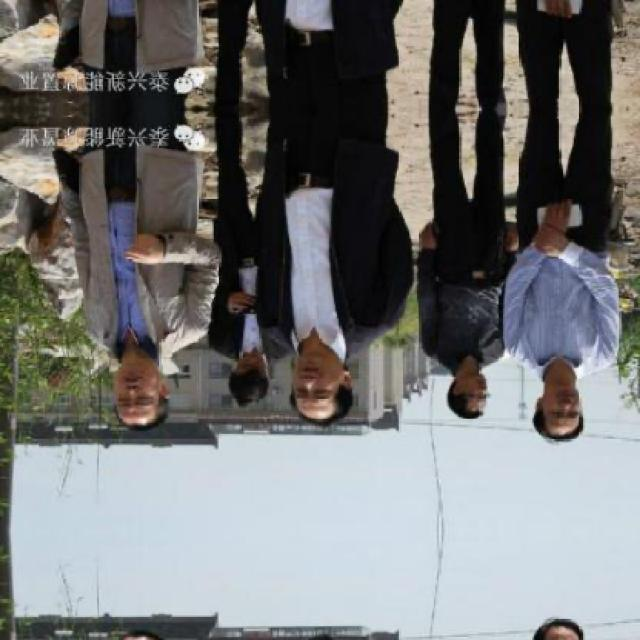sin casco: (260, 312, 370, 438), (68, 326, 170, 449), (519, 330, 595, 439), (210, 339, 290, 432), (443, 342, 501, 420)
